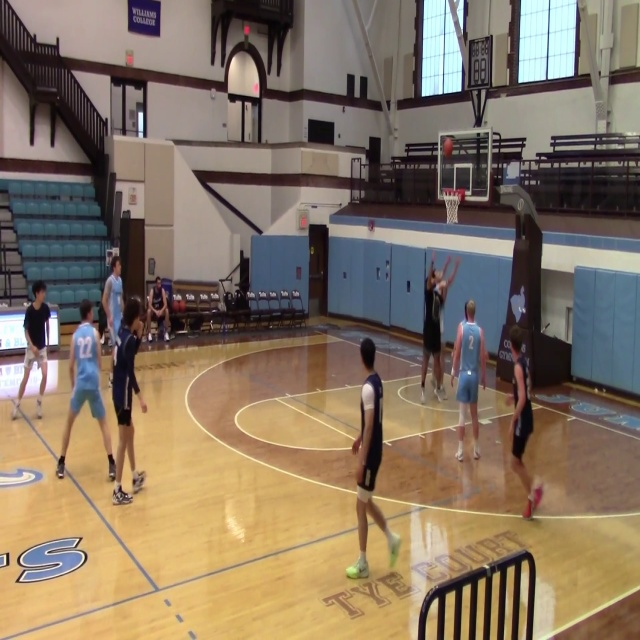Basketball: (172, 298, 186, 312), (443, 139, 453, 156)
